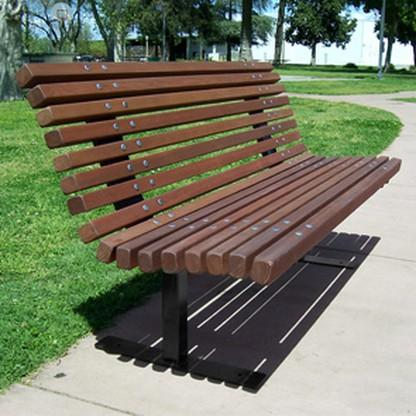obstacle: (16, 44, 407, 326)
